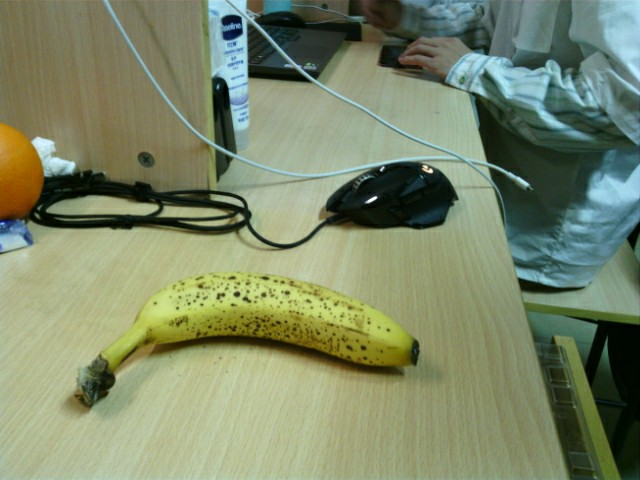normal_banana: (77, 272, 419, 411)
normal_orange: (1, 124, 45, 214)
